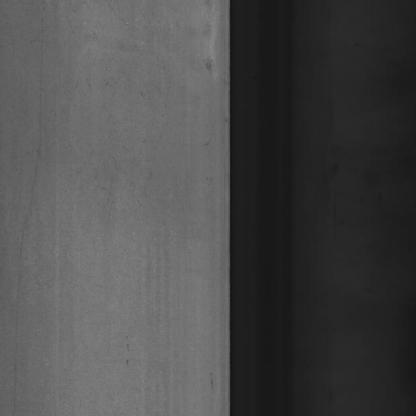inclusion: (118, 328, 137, 379)
silk_spot: (80, 35, 154, 230)
